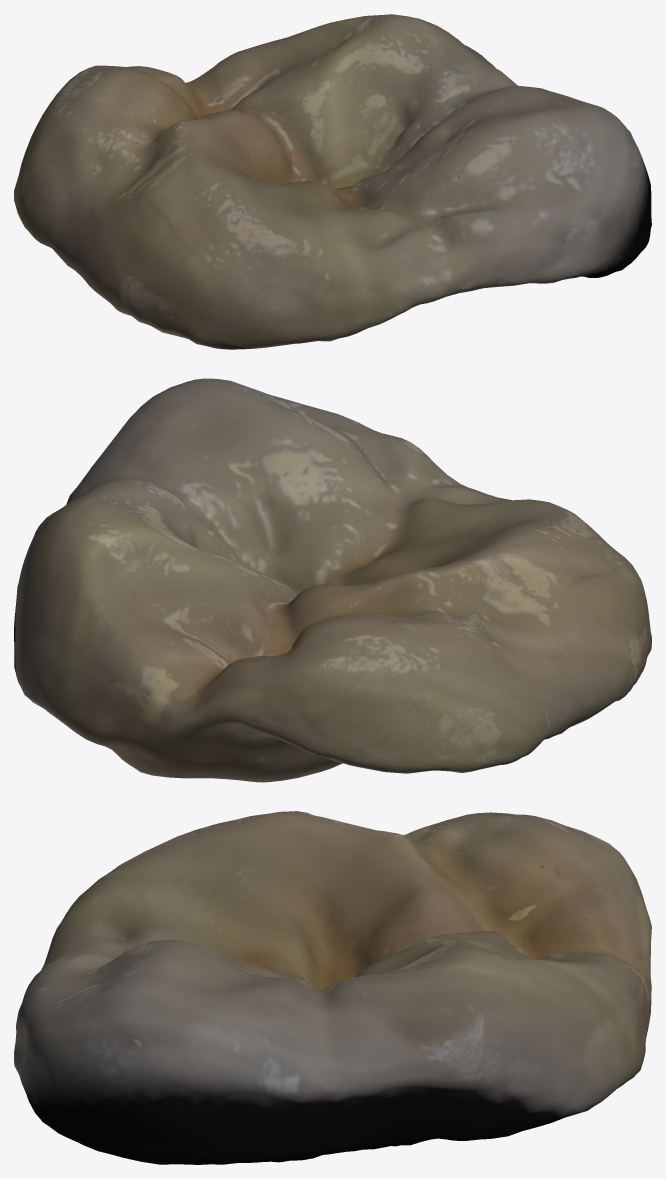
The model's file is INALY ZIRCONIA.glb.
3 views of the same model, one above another, from view 1: azimuth 30°, elevation 25°; view 2: azimuth 150°, elevation 25°; view 3: azimuth 270°, elevation 25° (orthographic). The views are drawn at different scales.
Parts seen in each view (by area): view 1: inlay zirconia LowerJawScan; view 2: inlay zirconia LowerJawScan; view 3: inlay zirconia LowerJawScan.
Boxes of the visible parts, x1,y1,x2,y2 form: inlay zirconia LowerJawScan: [14, 14, 651, 349]; inlay zirconia LowerJawScan: [14, 378, 651, 782]; inlay zirconia LowerJawScan: [14, 811, 651, 1164].
Bounding box in the file's own units: 1.17 × 0.3786 × 1.12.
Materials: 1 (1 with a texture image).
